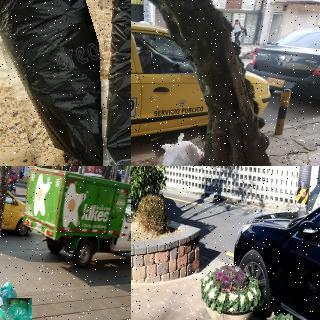Garbage: (0, 0, 131, 166), (99, 0, 131, 166), (153, 128, 209, 166), (6, 297, 32, 320), (1, 282, 17, 308), (0, 292, 5, 317)
